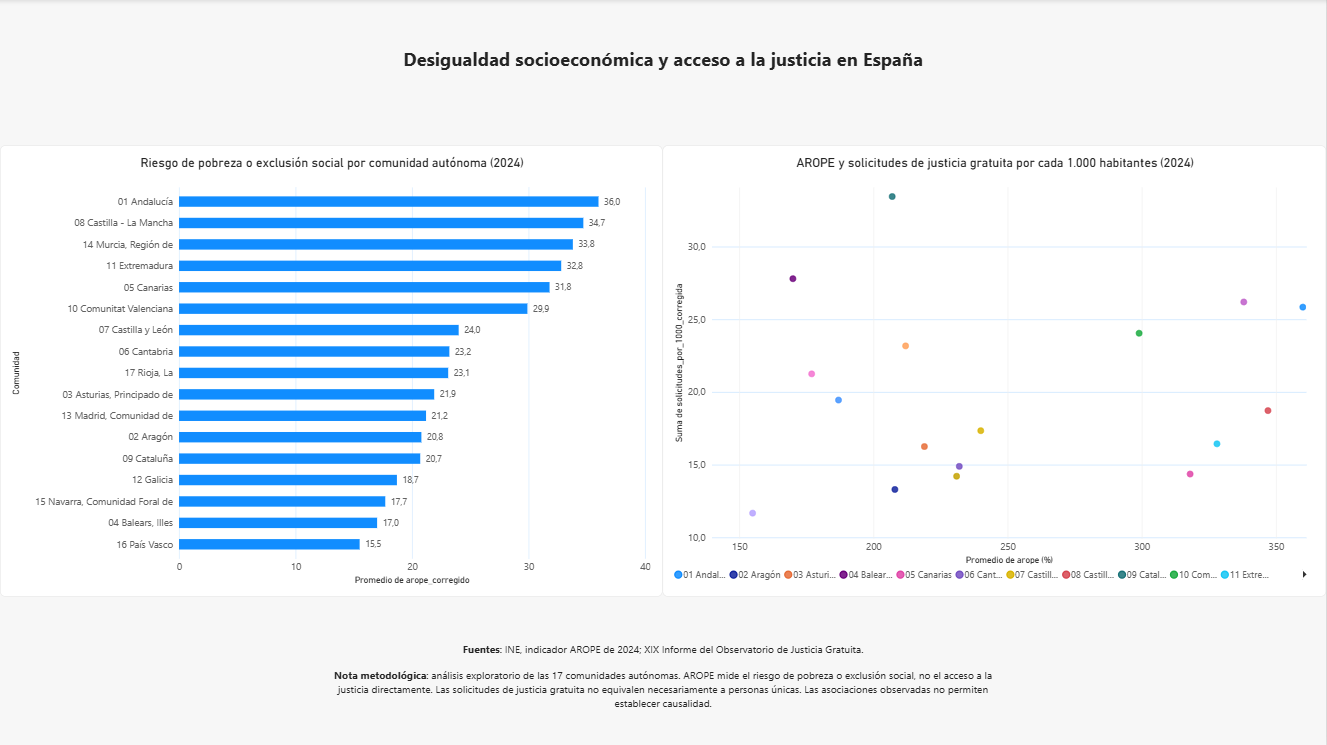

This screenshot's page, from the dashboard's own definition file:
{"tool":"powerbi","page":{"name":"Página 1","canvas":[1920,1080],"ordinal":0},"visuals":[{"type":"clusteredBarChart","title":"Riesgo de pobreza o exclusión social por comunidad autónoma (2024)","fields":{"Category":["base_analisis_17_comunidades.Comunidad"],"Y":["Avg(base_analisis_17_comunidades.arope_corregido)"]},"box":[0,211.7,959.1,653.3],"z":0},{"type":"scatterChart","title":"AROPE y solicitudes de justicia gratuita por cada 1.000 habitantes (2024)","fields":{"Series":["base_analisis_17_comunidades.Comunidad"],"X":["Avg(base_analisis_17_comunidades.arope (%))"],"Y":["Sum(base_analisis_17_comunidades.solicitudes_por_1000_corregida)"]},"box":[959.1,211.7,960.9,653.3],"z":1000},{"type":"textbox","box":[0,68.8,1920.1,61.5],"z":2000},{"type":"textbox","box":[479.6,930.2,960.9,150.2],"z":3000}]}

Visuals, with their boxes in screenshot pixels (x1, y1, x2, y2), scaled from the page's 1920x1080 canvas onto the 1327x745 screenshot:
"Riesgo de pobreza o exclusión social por comunidad autónoma (2024)" clusteredBarChart: 0:146:663:597
"AROPE y solicitudes de justicia gratuita por cada 1.000 habitantes (2024)" scatterChart: 663:146:1326:597
textbox: 0:47:1326:90
textbox: 331:642:996:744
